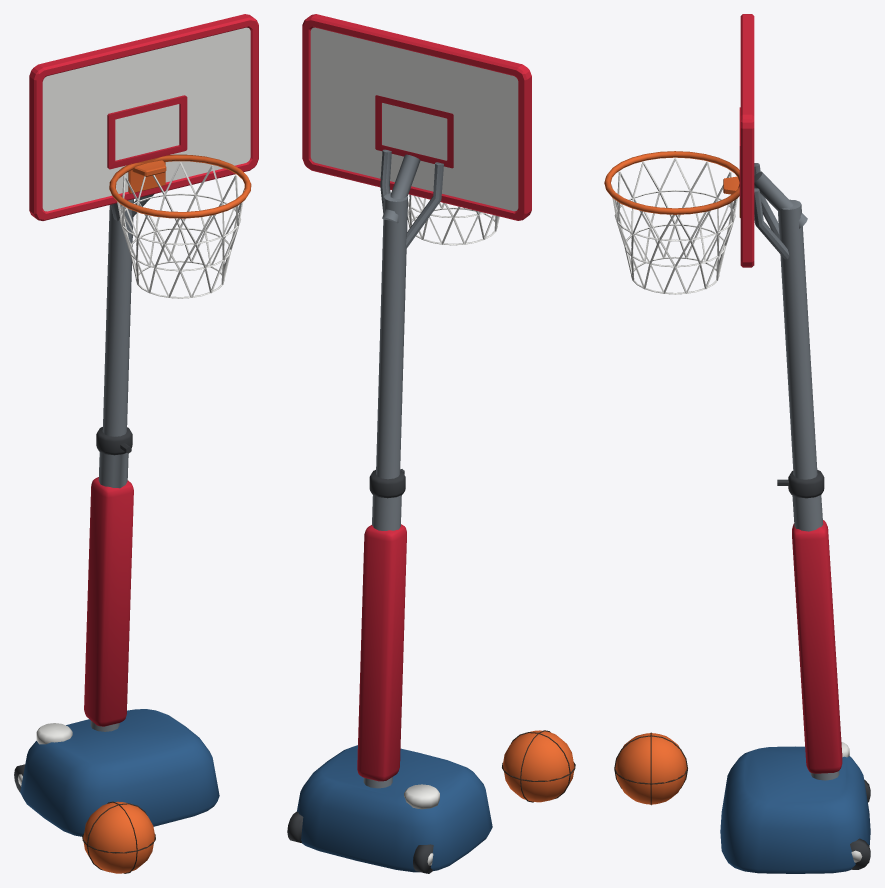
Rendered from streetballHoop.glb.
3 renders of one model, left to right at view 1: azimuth 30°, elevation 25°; view 2: azimuth 150°, elevation 25°; view 3: azimuth 270°, elevation 25°, orthographic.
Parts seen in each view (by area): view 1: body, net, ball; view 2: body, ball, net; view 3: body, net, ball.
Boxes of the visible parts, <box> form: body: <box>14,14,258,836</box>; net: <box>116,162,244,298</box>; ball: <box>82,801,155,873</box>; body: <box>287,14,531,873</box>; ball: <box>502,730,575,802</box>; net: <box>407,194,499,245</box>; body: <box>604,14,870,873</box>; net: <box>611,158,737,294</box>; ball: <box>614,732,687,805</box>.
Size of the model in its own units: 0.86 by 2.84 by 0.886.
